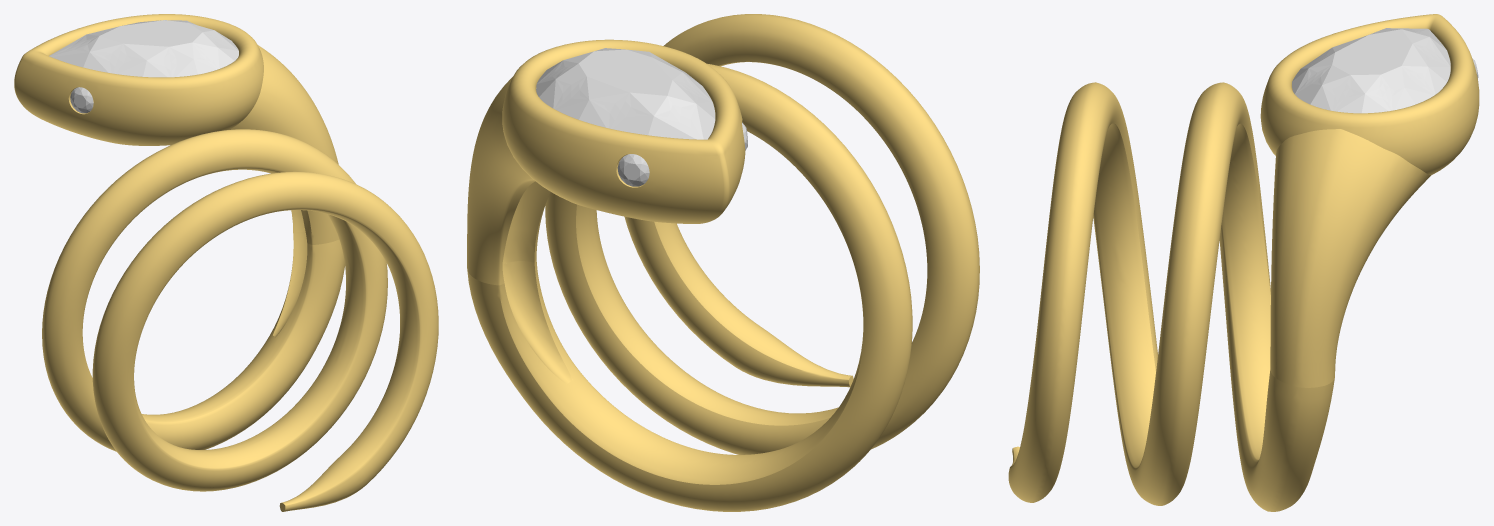
The model's file is OrielVtaper.glb.
3 renders of one model, left to right at view 1: azimuth 30°, elevation 25°; view 2: azimuth 150°, elevation 25°; view 3: azimuth 270°, elevation 25°, orthographic. The views are drawn at different scales.
Parts seen in each view (by area): view 1: v2 oriel YG for 3d model, v2 oriel pear dia for 3d model, v2 oriel dia round for 3d model.001; view 2: v2 oriel YG for 3d model, v2 oriel pear dia for 3d model, v2 oriel dia round for 3d model; view 3: v2 oriel YG for 3d model, v2 oriel pear dia for 3d model.
Part boxes in pixels (x1,y1,x2,y2): v2 oriel YG for 3d model: [14, 14, 438, 511]; v2 oriel pear dia for 3d model: [49, 20, 238, 77]; v2 oriel dia round for 3d model.001: [70, 87, 93, 113]; v2 oriel YG for 3d model: [467, 14, 979, 511]; v2 oriel pear dia for 3d model: [536, 48, 715, 139]; v2 oriel dia round for 3d model: [617, 154, 649, 186]; v2 oriel YG for 3d model: [1008, 14, 1479, 511]; v2 oriel pear dia for 3d model: [1292, 28, 1450, 113].
Size of the model in its own units: 20.24 by 22.48 by 21.68.
